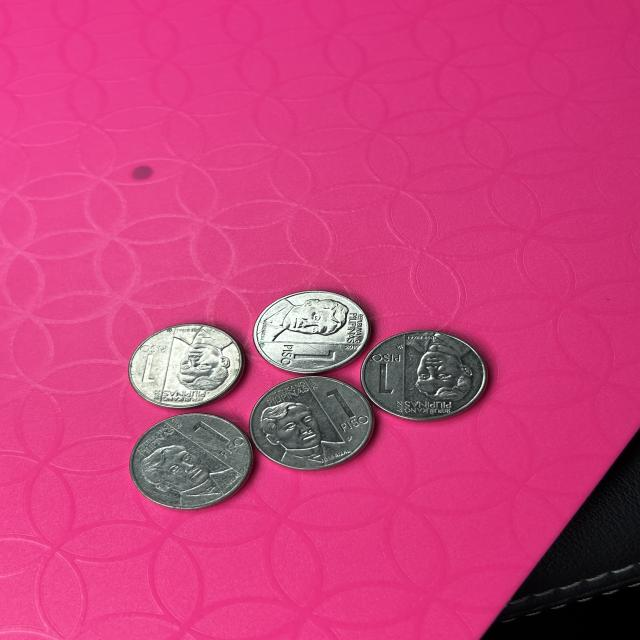1_New_Front: (325, 386, 371, 435), (190, 418, 241, 460), (280, 341, 338, 376), (136, 342, 168, 388), (367, 348, 395, 398)
